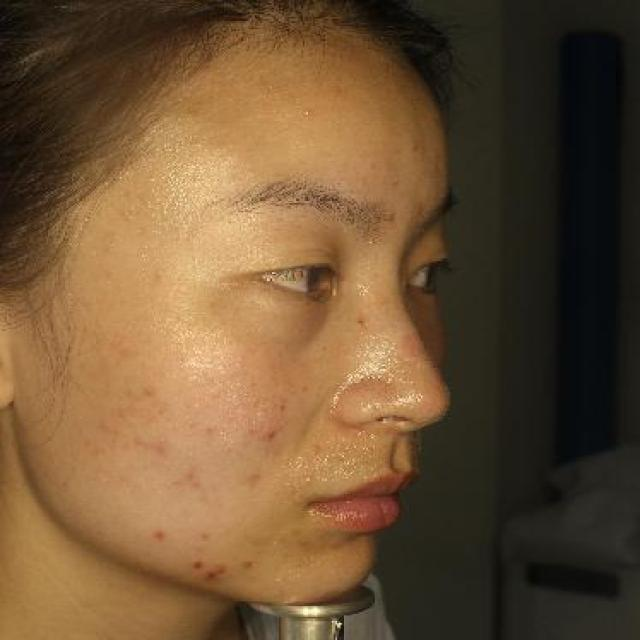papules: (258, 426, 282, 443), (212, 557, 229, 575)
whiteheads: (298, 105, 315, 120)
